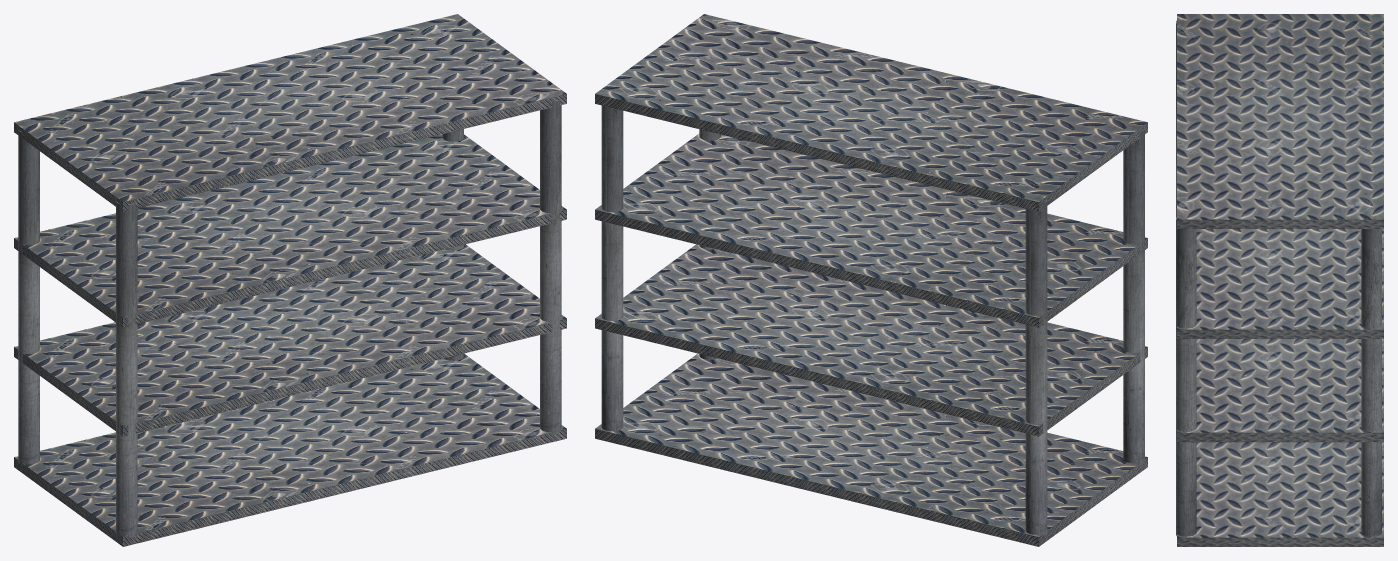
The model's file is StockShelf.FBX.
3 views of the same model, side by side, from view 1: azimuth 30°, elevation 25°; view 2: azimuth 150°, elevation 25°; view 3: azimuth 270°, elevation 25° (orthographic). The views are drawn at different scales.
Parts seen in each view (by area): view 1: shelves, poles; view 2: shelves, poles; view 3: shelves, poles.
Part boxes in pixels (x1,y1,x2,y2): shelves: [14, 14, 566, 546]; poles: [18, 100, 561, 537]; shelves: [595, 14, 1147, 546]; poles: [601, 105, 1144, 535]; shelves: [1177, 14, 1383, 546]; poles: [1176, 20, 1381, 536].
Bounding box in the file's own units: 69.87 × 51.79 × 29.79.
Materials: 2 (2 with a texture image).
